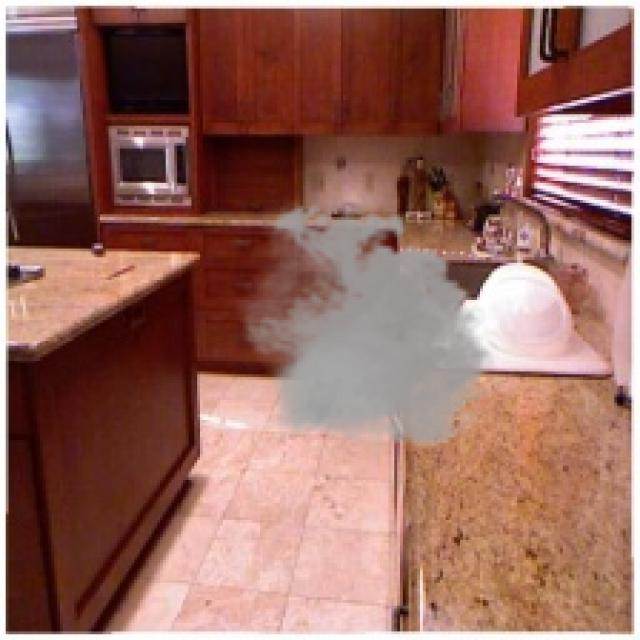smoke: (228, 197, 506, 457)
